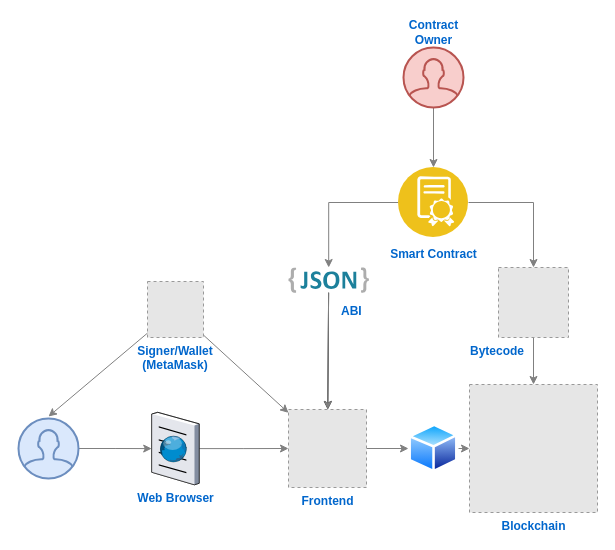
Image size: 615x550. Some labels were removed from this diagram. Grey dashed boxes stand in for pictures. The centre of each missing label's shape, as x and y in pixels:
"Node" belongs at (433,448).
"User" belongs at (48,448).
